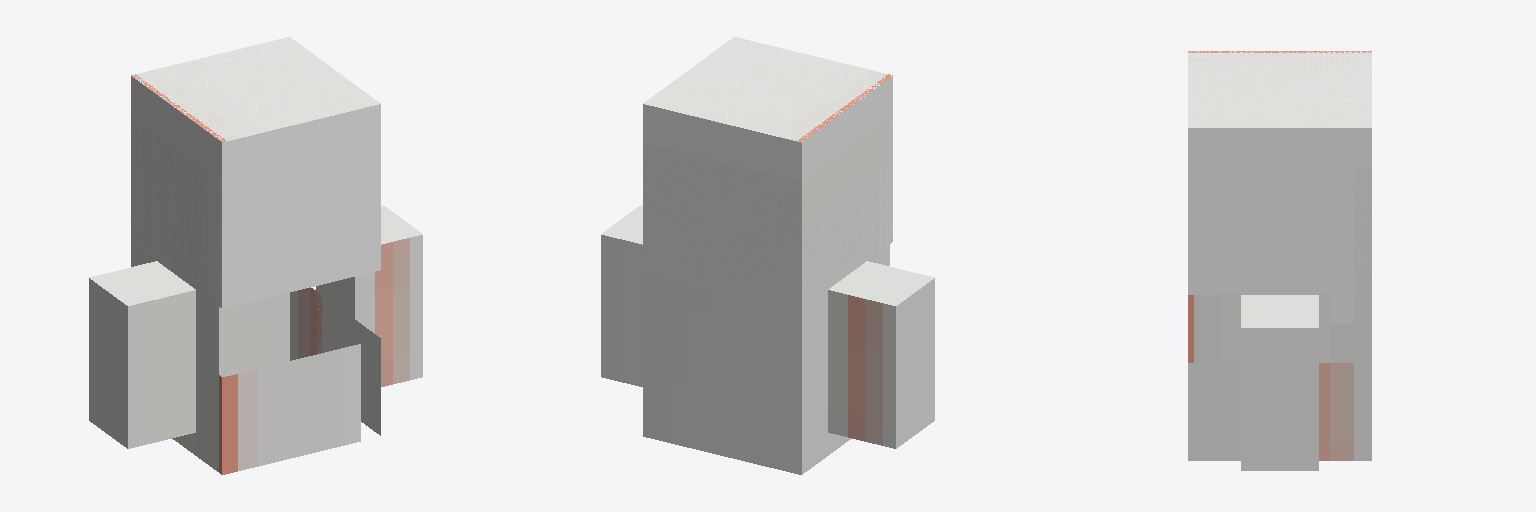
The picture shows the model from 3 angles: view 1: azimuth 30°, elevation 25°; view 2: azimuth 150°, elevation 25°; view 3: azimuth 270°, elevation 25°; orthographic projection.
Parts seen in each view (by area): view 1: head 2, knightRed_8angles, left 2, right 2; view 2: head 2, knightRed_8angles, left 2, right 2; view 3: head 2, knightRed_8angles, right 2.
Boxes of the visible parts, x1,y1,x2,y2 form: head 2: [131, 37, 380, 308]; knightRed_8angles: [131, 242, 380, 474]; left 2: [89, 261, 195, 448]; right 2: [316, 206, 422, 386]; head 2: [643, 37, 892, 308]; knightRed_8angles: [643, 245, 889, 474]; left 2: [828, 261, 934, 448]; right 2: [601, 206, 642, 386]; head 2: [1188, 51, 1371, 294]; knightRed_8angles: [1188, 295, 1371, 460]; right 2: [1241, 295, 1318, 470].
Bounding box in the file's own units: 4.83 × 5.2 × 2.6.
Materials: 2 (1 with a texture image).